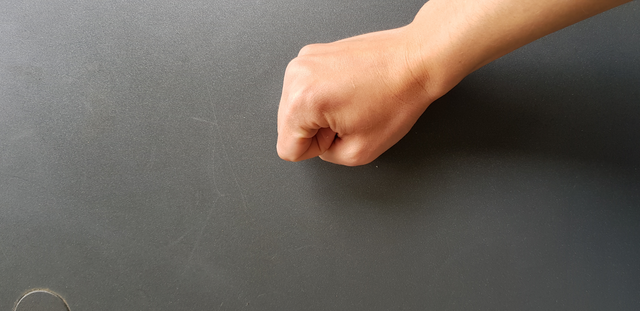Rock: (242, 32, 469, 185)
